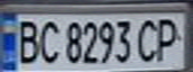2: (78, 17, 100, 65)
3: (112, 17, 136, 64)
8: (60, 17, 84, 65)
9: (97, 17, 118, 65)
B: (9, 16, 42, 65)
C: (33, 17, 63, 65), (133, 16, 163, 63)
P: (151, 15, 187, 63)
